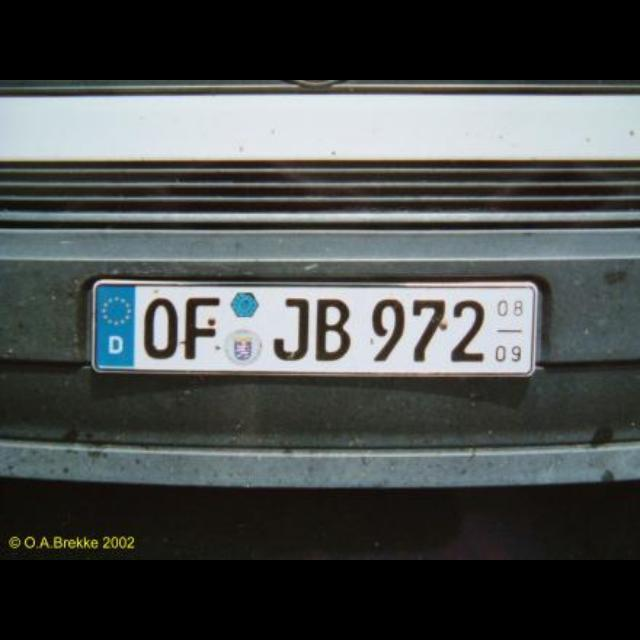license-plates: (91, 280, 540, 378)
